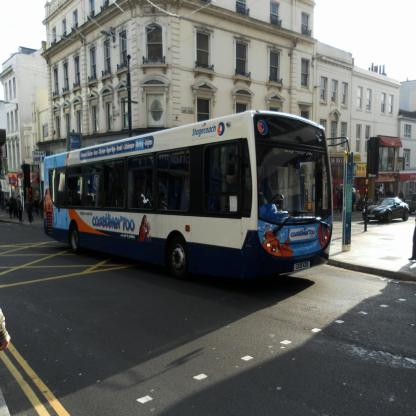Bus: (43, 109, 355, 285)
